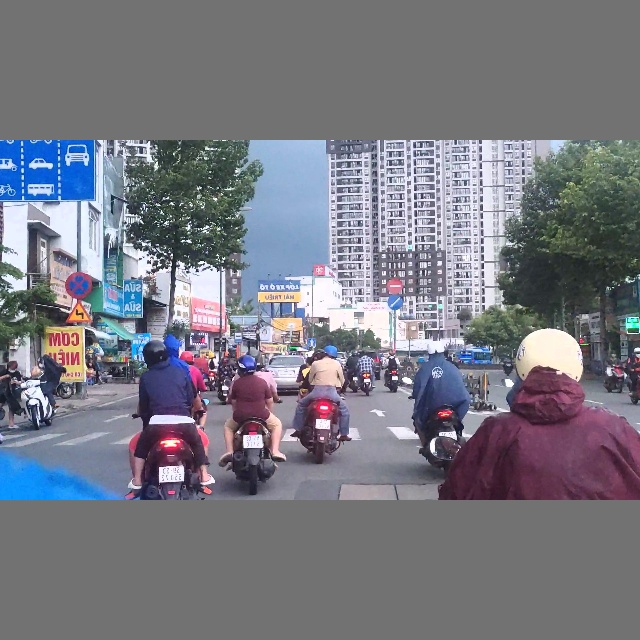I.407a: (308, 338, 316, 347)
I.434a: (234, 332, 242, 342)
P.102: (387, 279, 402, 294)
P.130: (66, 272, 92, 299)
R.302a: (387, 295, 402, 310)
R.415a: (0, 140, 95, 201)
W.202b: (64, 300, 92, 324)
